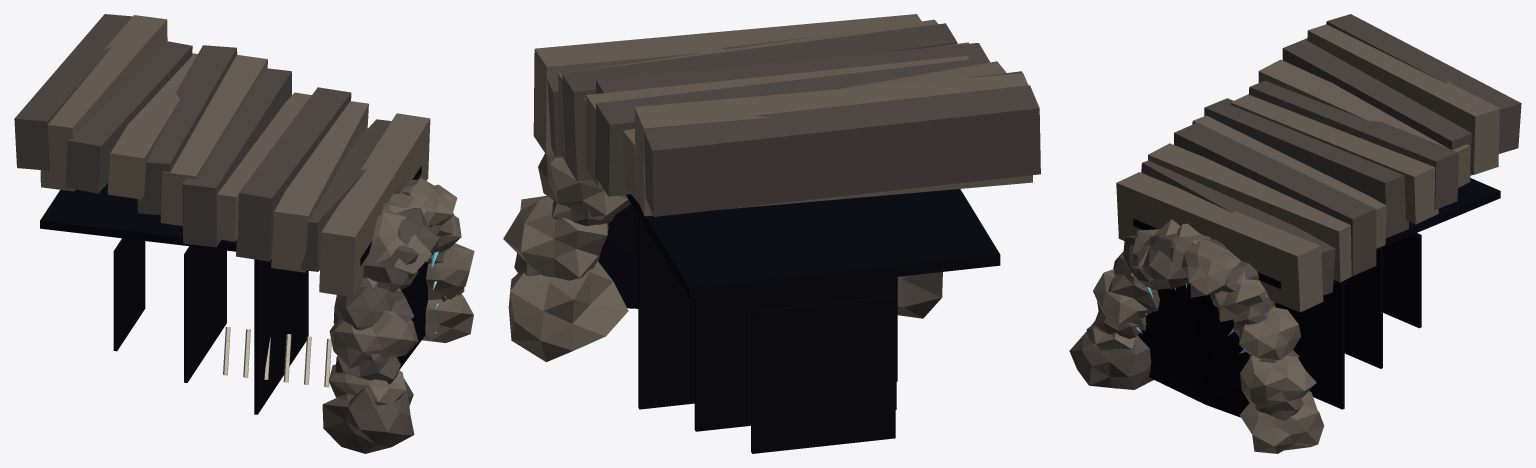
Rendered from coast_glasswyrm_cavern.glb.
3 renders of one model, left to right at view 1: azimuth 30°, elevation 25°; view 2: azimuth 150°, elevation 25°; view 3: azimuth 270°, elevation 25°, orthographic. The views are drawn at different scales.
Parts seen in each view (by area): view 1: geometry_0; view 2: geometry_0; view 3: geometry_0.
Boxes of the visible parts, x1,y1,x2,y2 form: geometry_0: (14,14,474,453); geometry_0: (503,14,1040,453); geometry_0: (1069,14,1521,453).
Bounding box in the file's own units: 54.58 × 37 × 55.81.
